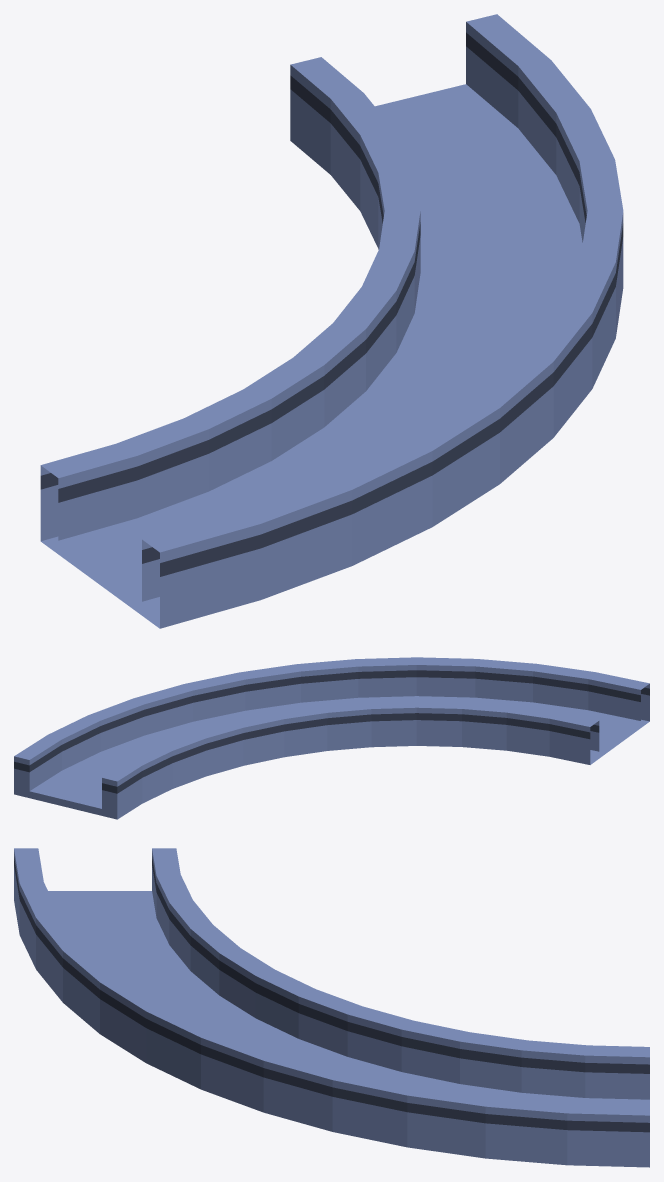
The model's file is curve_structure.fbx.
The picture shows the model from 3 angles, top to bottom: view 1: azimuth 30°, elevation 25°; view 2: azimuth 150°, elevation 25°; view 3: azimuth 270°, elevation 25°; orthographic projection. The views are drawn at different scales.
Parts seen in each view (by area): view 1: Circular_Structure; view 2: Circular_Structure; view 3: Circular_Structure.
Boxes of the visible parts, <box> form: Circular_Structure: <box>40,14,623,628</box>; Circular_Structure: <box>14,657,649,819</box>; Circular_Structure: <box>14,848,649,1167</box>.
Bounding box in the file's own units: 1143 × 104 × 1150.
